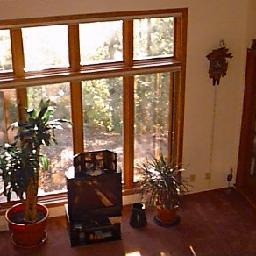Matera: (2, 106, 58, 247), (146, 161, 183, 227)
Otro Obstaculo: (70, 155, 127, 246)
Ventana: (3, 19, 179, 192)
